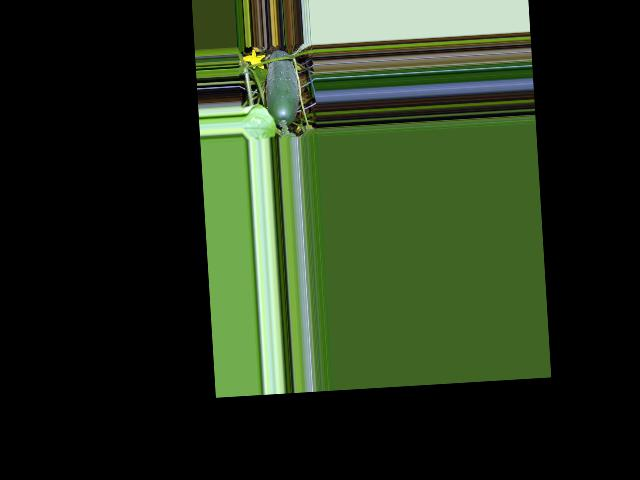cucumber: (263, 50, 300, 128)
